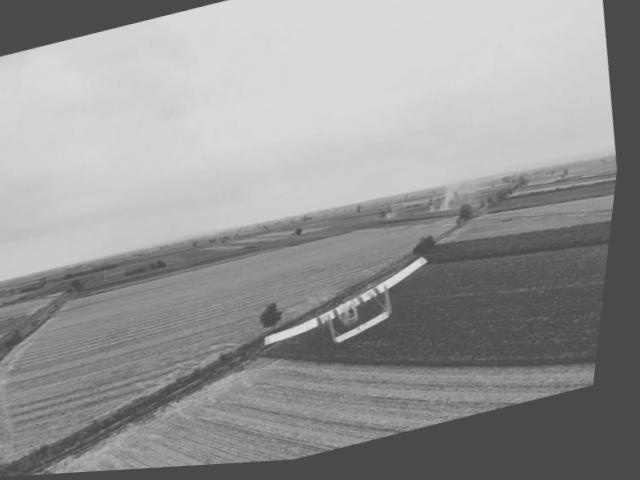hedef: (256, 249, 457, 382)
